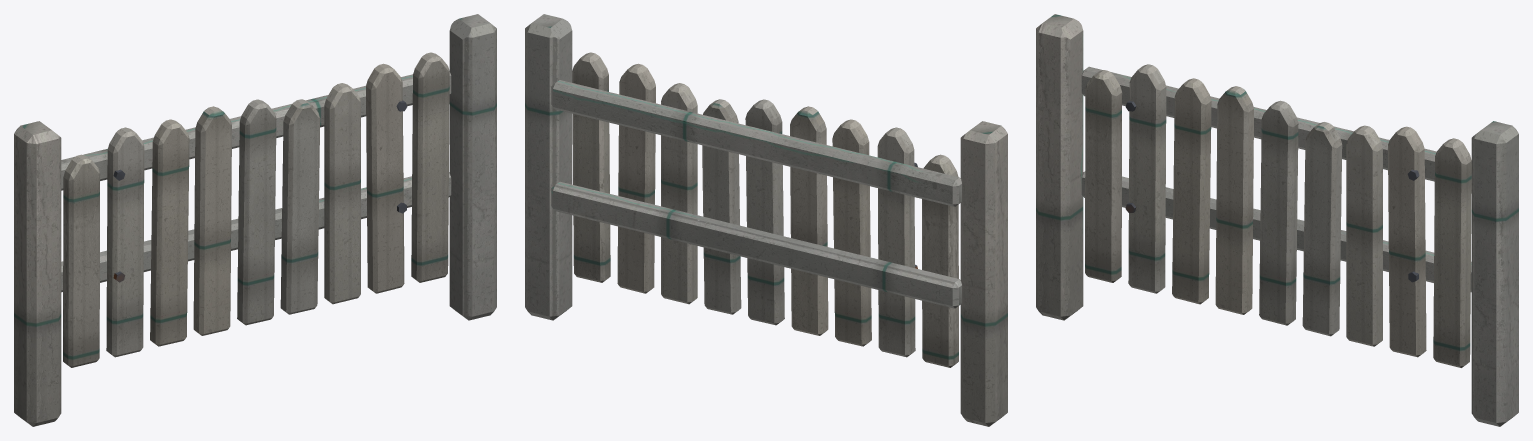
Rendered from cit.glb.
3 renders of one model, left to right at view 1: azimuth 30°, elevation 25°; view 2: azimuth 150°, elevation 25°; view 3: azimuth 330°, elevation 25°, orthographic.
Parts seen in each view (by area): view 1: cit; view 2: cit; view 3: cit.
Boxes of the visible parts, x1,y1,x2,y2 form: cit: (14,14,496,426); cit: (525,14,1007,426); cit: (1036,14,1518,426).
Bounding box in the file's own units: 3 × 1.78 × 0.26.
1 material, 1 textured.
